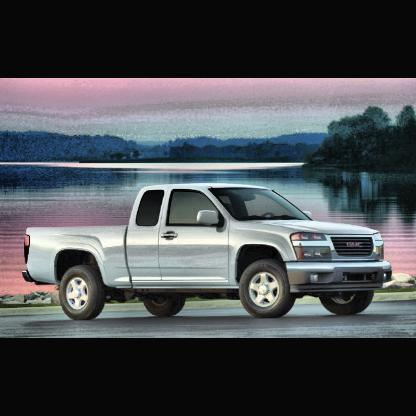GMC Canyon Extended Cab 2012: (21, 182, 392, 321)
